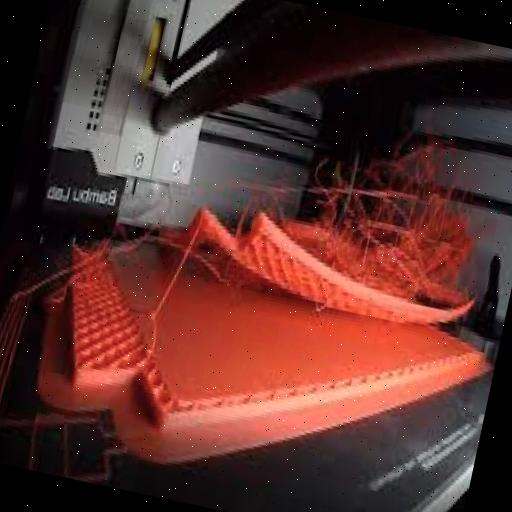spaghetti: (242, 108, 494, 284), (52, 180, 154, 310)
